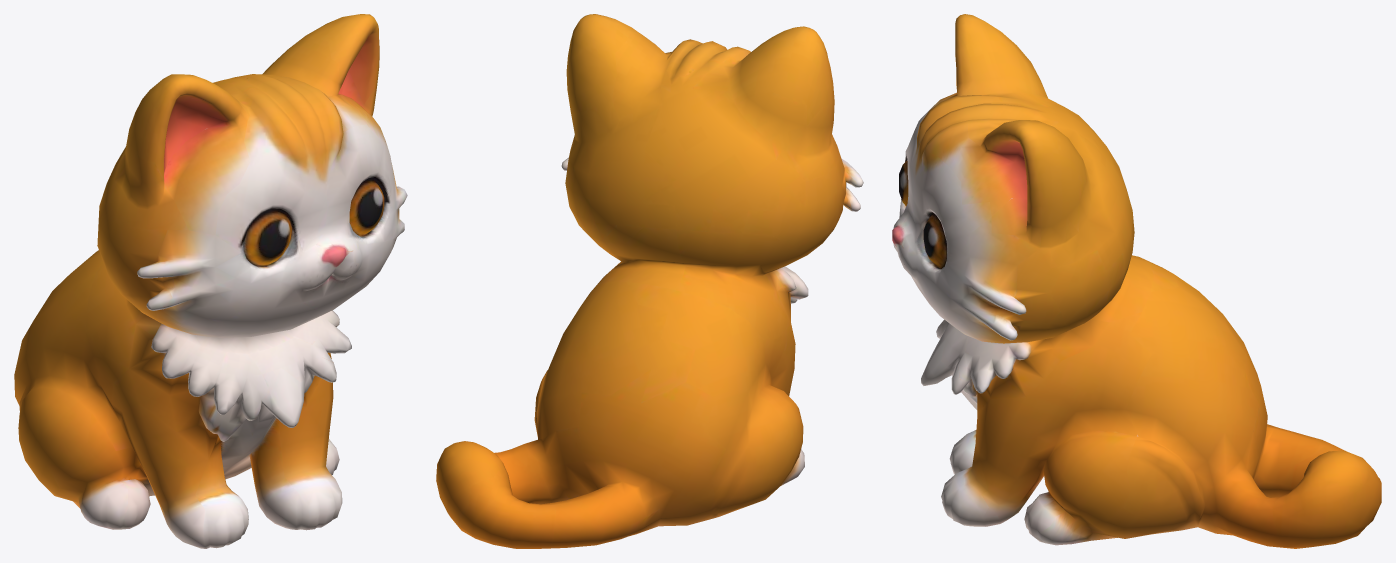
File: kitten.5a6a5b1a.glb
3 renders of one model, left to right at view 1: azimuth 30°, elevation 25°; view 2: azimuth 150°, elevation 25°; view 3: azimuth 270°, elevation 25°, orthographic. The views are drawn at different scales.
Visible parts, largest first — view 1: tripo_node_4c9a23b1-647f-4193-aa44-449c1febb1f0; view 2: tripo_node_4c9a23b1-647f-4193-aa44-449c1febb1f0; view 3: tripo_node_4c9a23b1-647f-4193-aa44-449c1febb1f0.
Part boxes in pixels (x1,y1,x2,y2): tripo_node_4c9a23b1-647f-4193-aa44-449c1febb1f0: [14, 14, 407, 548]; tripo_node_4c9a23b1-647f-4193-aa44-449c1febb1f0: [436, 14, 863, 548]; tripo_node_4c9a23b1-647f-4193-aa44-449c1febb1f0: [892, 14, 1381, 548].
Bounding box in the file's own units: 0.6894 × 0.998 × 0.998.
Materials: 1 (1 with a texture image).
